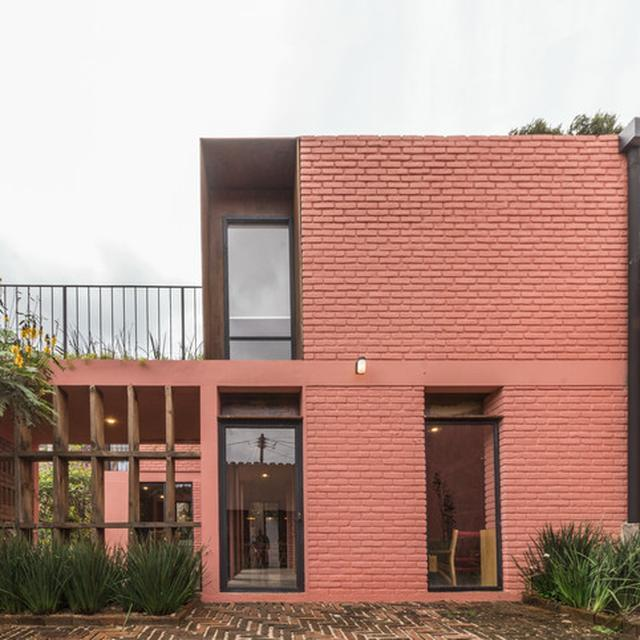building: (1, 133, 640, 600)
